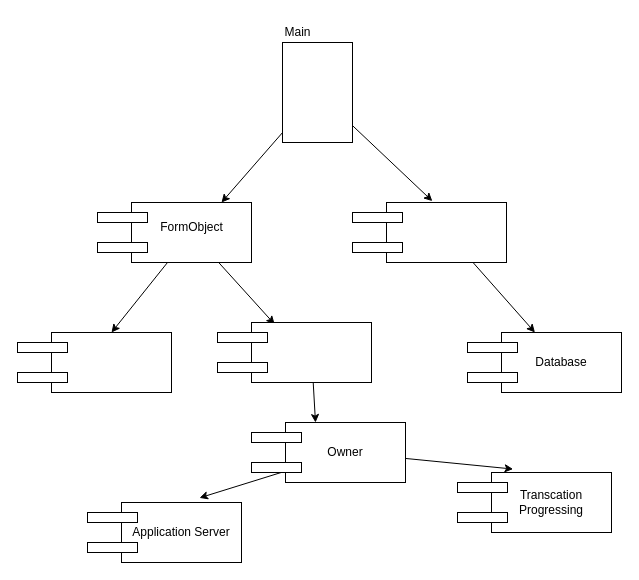
Some shapes in this 639 by 580 pixel diagram are drawn without their labels. Each missing label, with the centre of its shape:
"Account" belongs at point (311, 352).
"Control Object" belongs at point (446, 232).
"User" belongs at point (111, 362).
